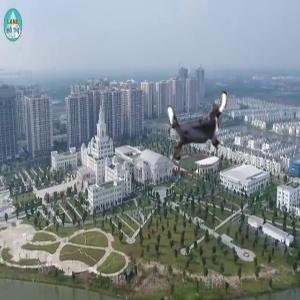drone: (160, 89, 239, 168)
